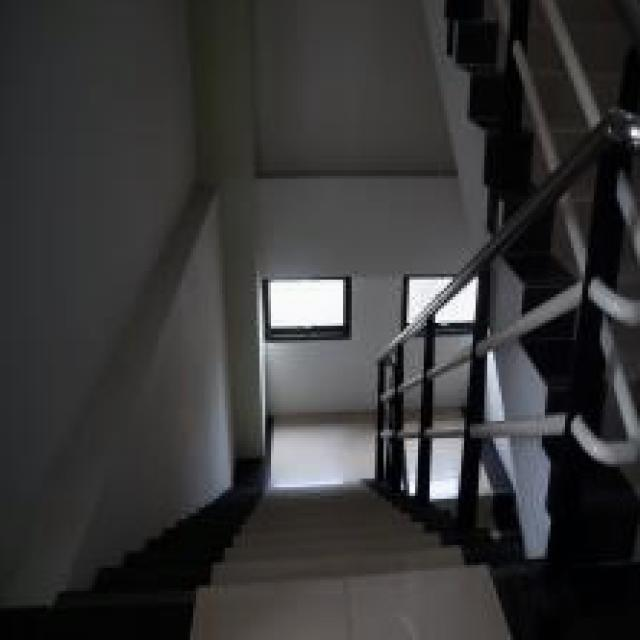downstair: (157, 439, 457, 640)
